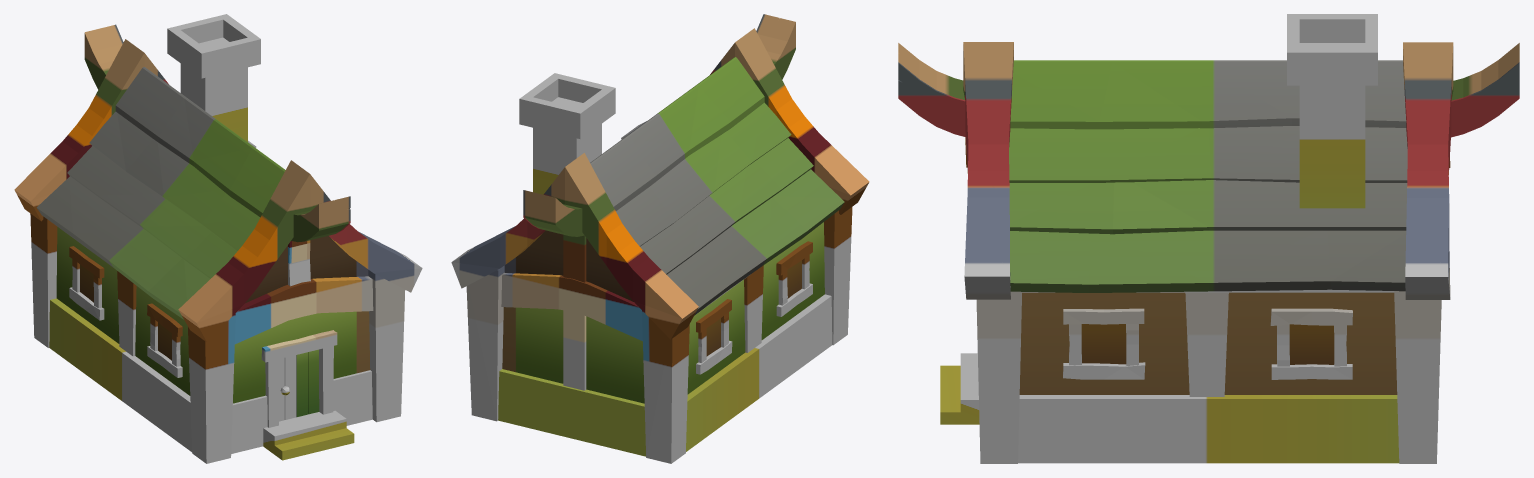
Rendered from House_01.fbx.
3 views of the same model, side by side, from view 1: azimuth 30°, elevation 25°; view 2: azimuth 150°, elevation 25°; view 3: azimuth 270°, elevation 25° (orthographic). The views are drawn at different scales.
Visible parts, largest first — view 1: House_01; view 2: House_01; view 3: House_01.
Boxes of the visible parts, x1,y1,x2,y2 form: House_01: (14, 14, 422, 463); House_01: (451, 14, 869, 463); House_01: (898, 14, 1519, 463).
Size of the model in its own units: 9.75 by 12.33 by 17.53.
